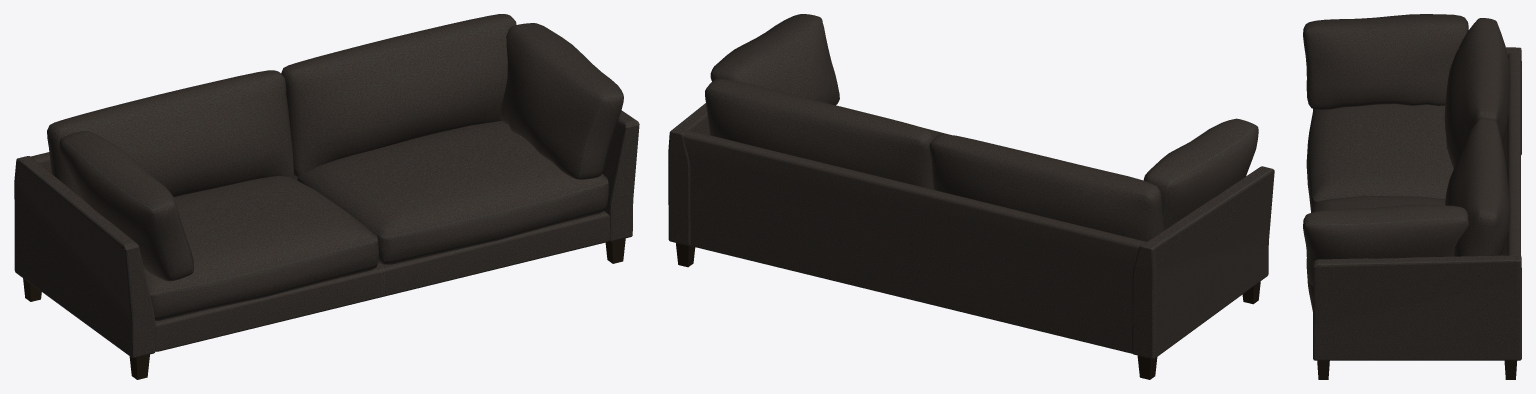
The model's file is midtown_upholstered_sofa.glb.
The picture shows the model from 3 angles, left to right: view 1: azimuth 30°, elevation 25°; view 2: azimuth 150°, elevation 25°; view 3: azimuth 270°, elevation 25°; orthographic projection. The views are drawn at different scales.
Parts seen in each view (by area): view 1: RootNode; view 2: RootNode; view 3: RootNode.
Part boxes in pixels (x1,y1,x2,y2): RootNode: [14, 14, 639, 379]; RootNode: [668, 14, 1274, 379]; RootNode: [1303, 14, 1521, 379].
Bounding box in the file's own units: 2.31 × 0.7917 × 0.9689.
1 material, 1 textured.
